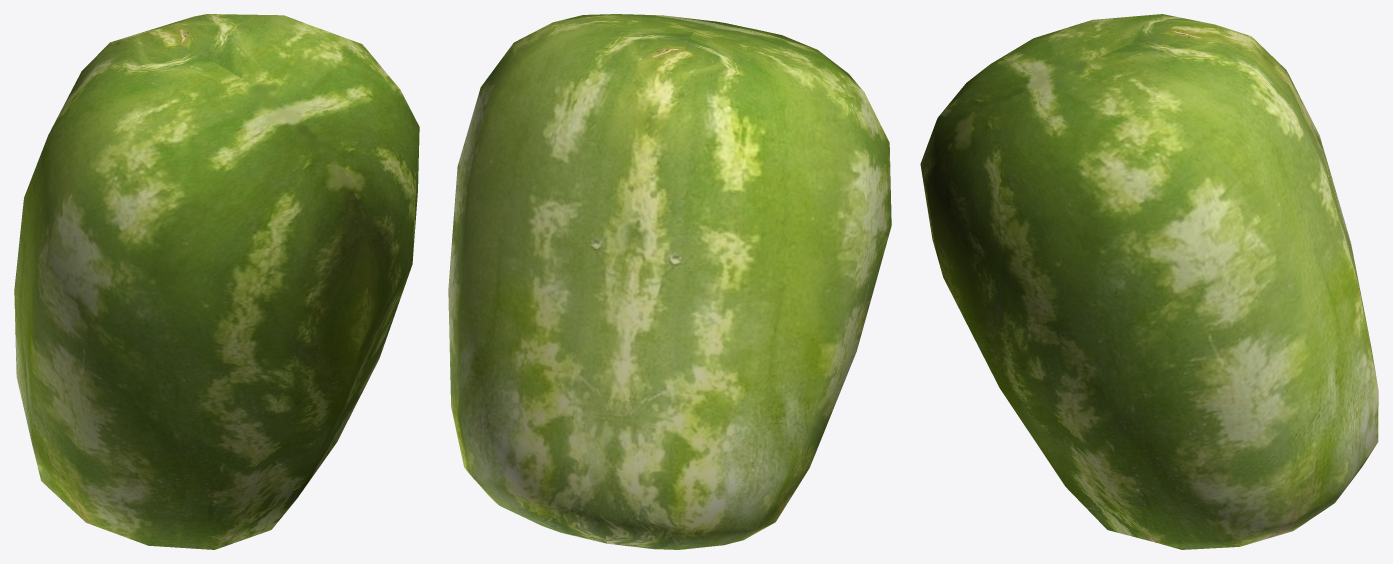
File: Pasteque.FBX
3 renders of one model, left to right at view 1: azimuth 30°, elevation 25°; view 2: azimuth 150°, elevation 25°; view 3: azimuth 270°, elevation 25°, orthographic.
Parts seen in each view (by area): view 1: Pasteque; view 2: Pasteque; view 3: Pasteque.
Boxes of the visible parts, <box> form: Pasteque: <box>14,14,419,549</box>; Pasteque: <box>448,14,891,549</box>; Pasteque: <box>920,14,1378,549</box>.
Size of the model in its own units: 5.36 by 6.85 by 5.82.
